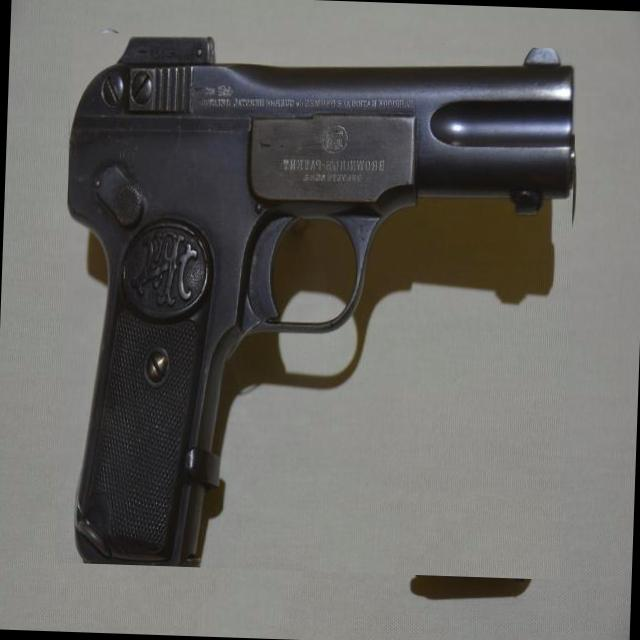Gun: (68, 37, 574, 567)
